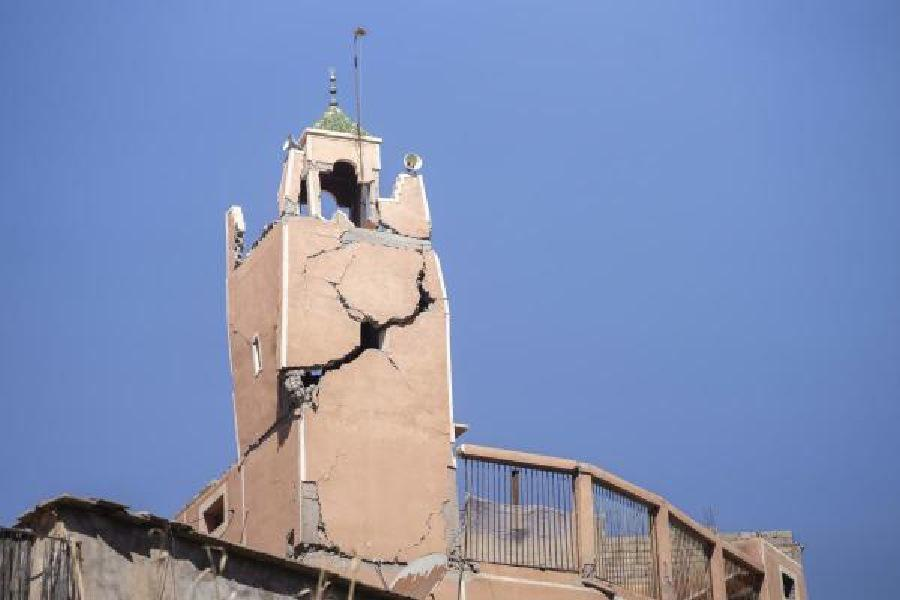crack: (280, 227, 450, 417)
